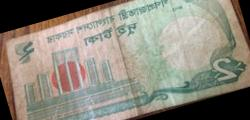2 taka: (15, 0, 230, 120)
